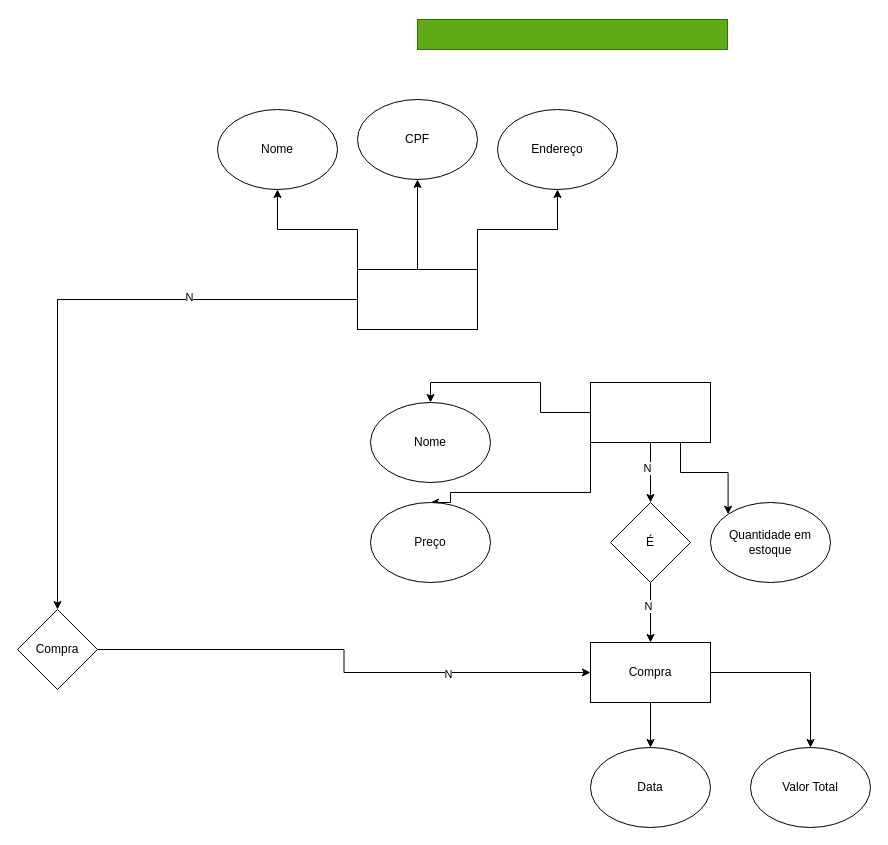
This 888x845 diagram has some shape labels left out. The shapes that lost their labels are listed below. From the top down, each one's centre as x and y in pixels, then its label:
point (572, 34): DER - Loja Online
point (417, 299): Cliente
point (650, 412): Produto
